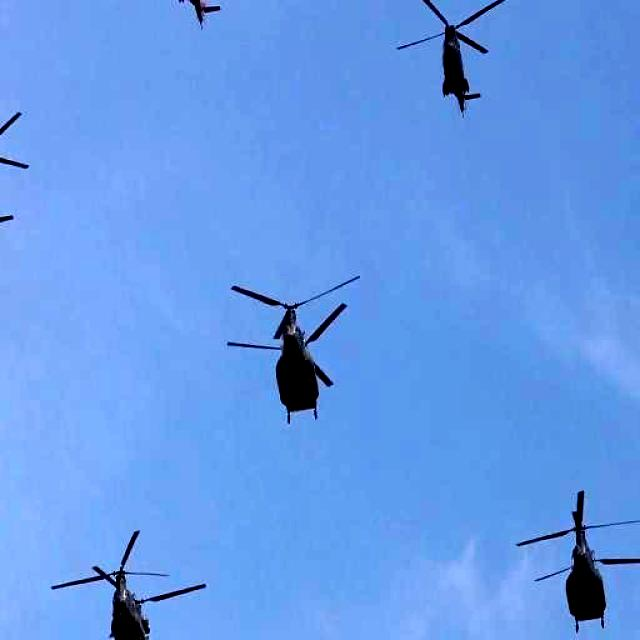drone: (224, 270, 362, 428), (514, 480, 640, 640), (49, 522, 208, 640), (395, 0, 510, 120), (121, 0, 256, 35), (0, 110, 31, 241)
